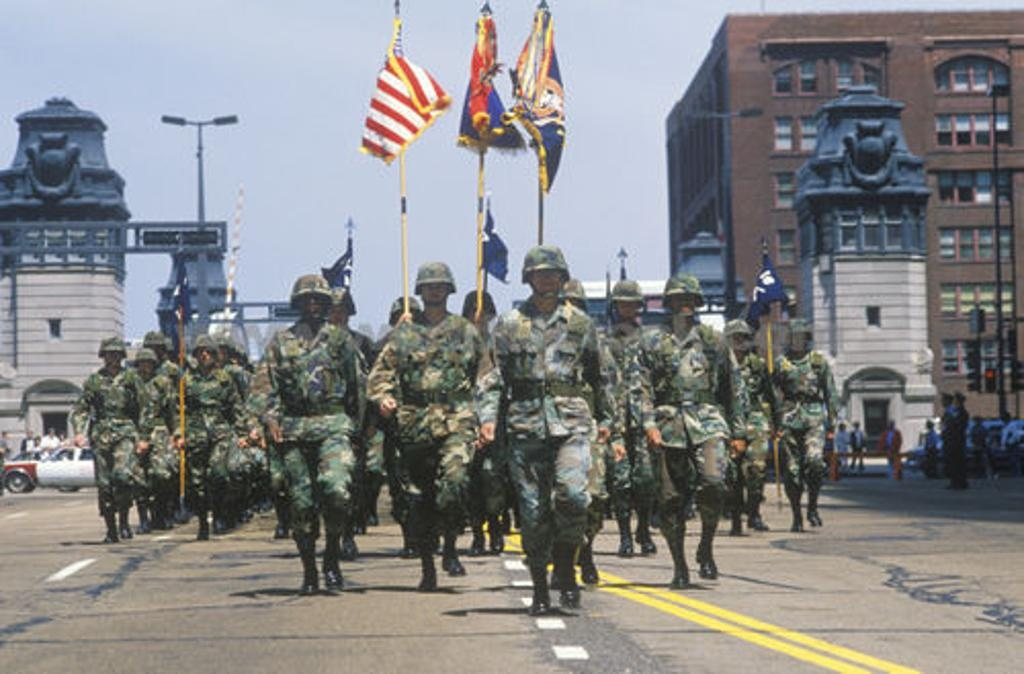human_face: (530, 262, 558, 296), (296, 288, 326, 318), (422, 276, 446, 304), (670, 288, 694, 316), (394, 306, 416, 330), (469, 301, 489, 325), (617, 295, 637, 317), (328, 299, 346, 323), (730, 330, 746, 350), (788, 330, 804, 350), (105, 346, 121, 363), (146, 340, 160, 358), (196, 345, 210, 363), (212, 343, 226, 361), (227, 350, 239, 368), (138, 358, 152, 372), (952, 394, 958, 404)
